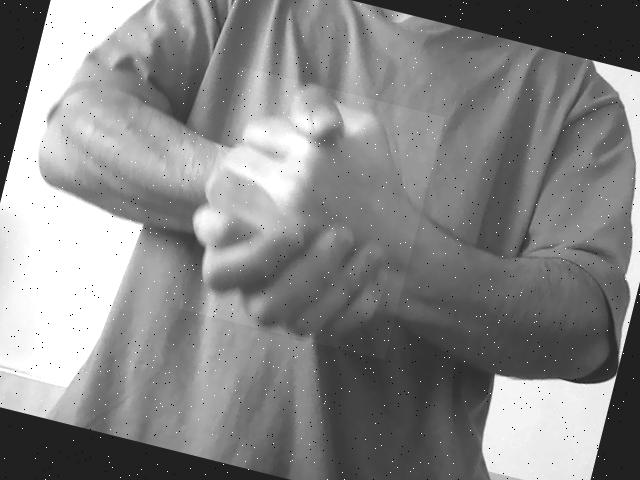friend: (178, 66, 444, 360)
